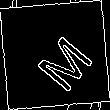M_NW: (21, 21, 89, 89)
